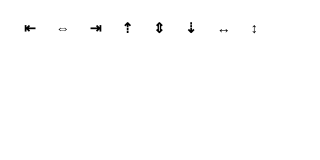
Test: AlignmentToolbar › surfaces a bridge error inline without crashing
Click the button with test id "kcreate-align-left": (30, 28) [16, 16, 44, 40]
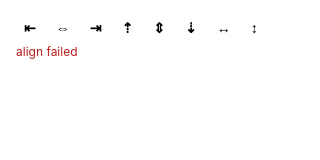
Expected: the message reads "align failed", [16, 44, 78, 59]
